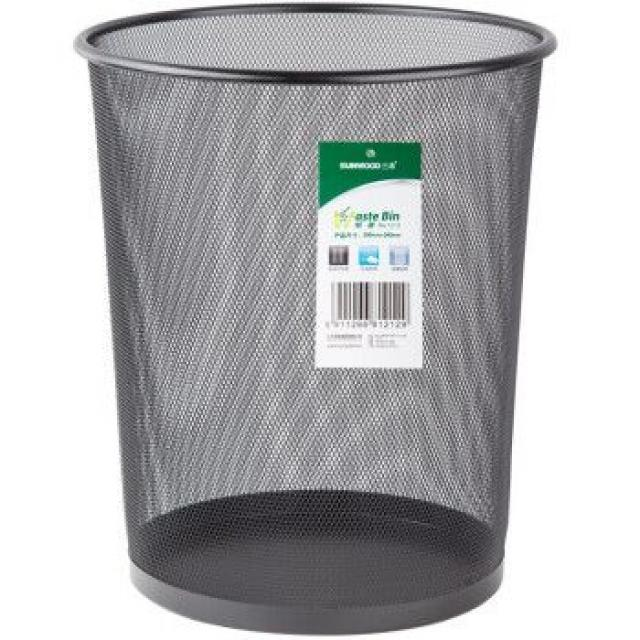Dustbin: (67, 0, 563, 640)
